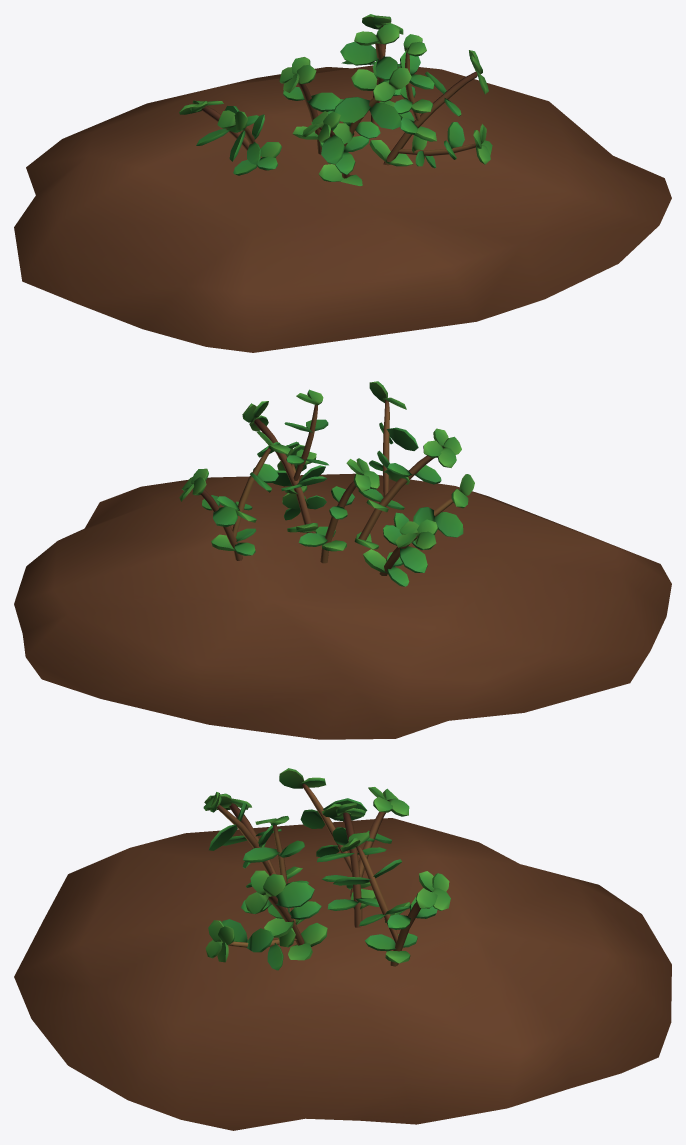
File: SM_PlantSoil_Cranberry_Lv1.fbx
The picture shows the model from 3 angles, top to bottom: view 1: azimuth 30°, elevation 25°; view 2: azimuth 150°, elevation 25°; view 3: azimuth 270°, elevation 25°; orthographic projection. The views are drawn at different scales.
Visible parts, largest first — view 1: SM_PlantSoil_Cranberry_Lv1; view 2: SM_PlantSoil_Cranberry_Lv1; view 3: SM_PlantSoil_Cranberry_Lv1.
Part boxes in pixels (x1,y1,x2,y2): SM_PlantSoil_Cranberry_Lv1: (14, 14, 671, 352); SM_PlantSoil_Cranberry_Lv1: (14, 381, 671, 739); SM_PlantSoil_Cranberry_Lv1: (14, 768, 671, 1130).
Size of the model in its own units: 118 by 44.35 by 106.
